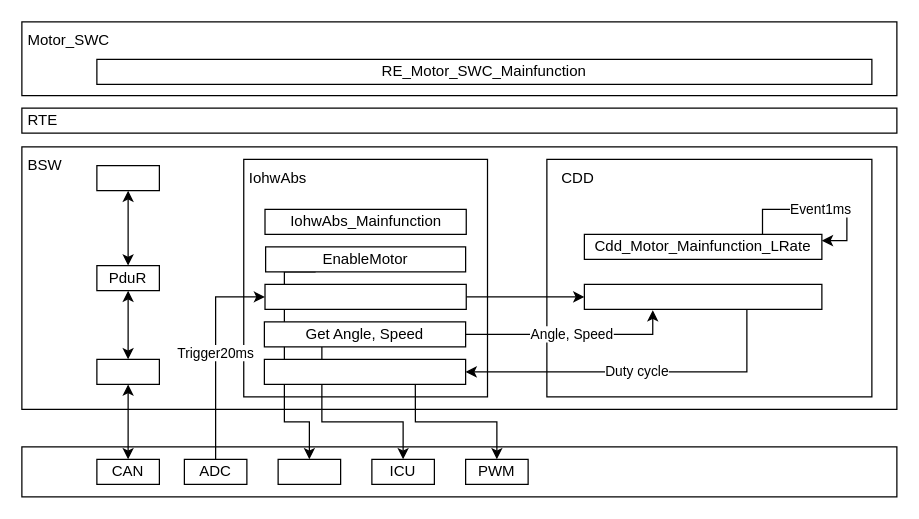
Some shapes in this 919 by 519 pixel diagram are drawn without their labels. The shapes that lost their labels are listed below. From the top down, each one's box as (x1, y1, x2, y2) in pixels, then its label:
(96, 164, 159, 191): COM
(264, 283, 466, 309): IohwAbs_Adc_Mainfunction
(583, 283, 822, 309): Cdd_Motor_Mainfunction_HRate
(96, 358, 159, 384): CAN_If
(263, 358, 466, 384): SetPWM
(277, 458, 341, 484): DIO
